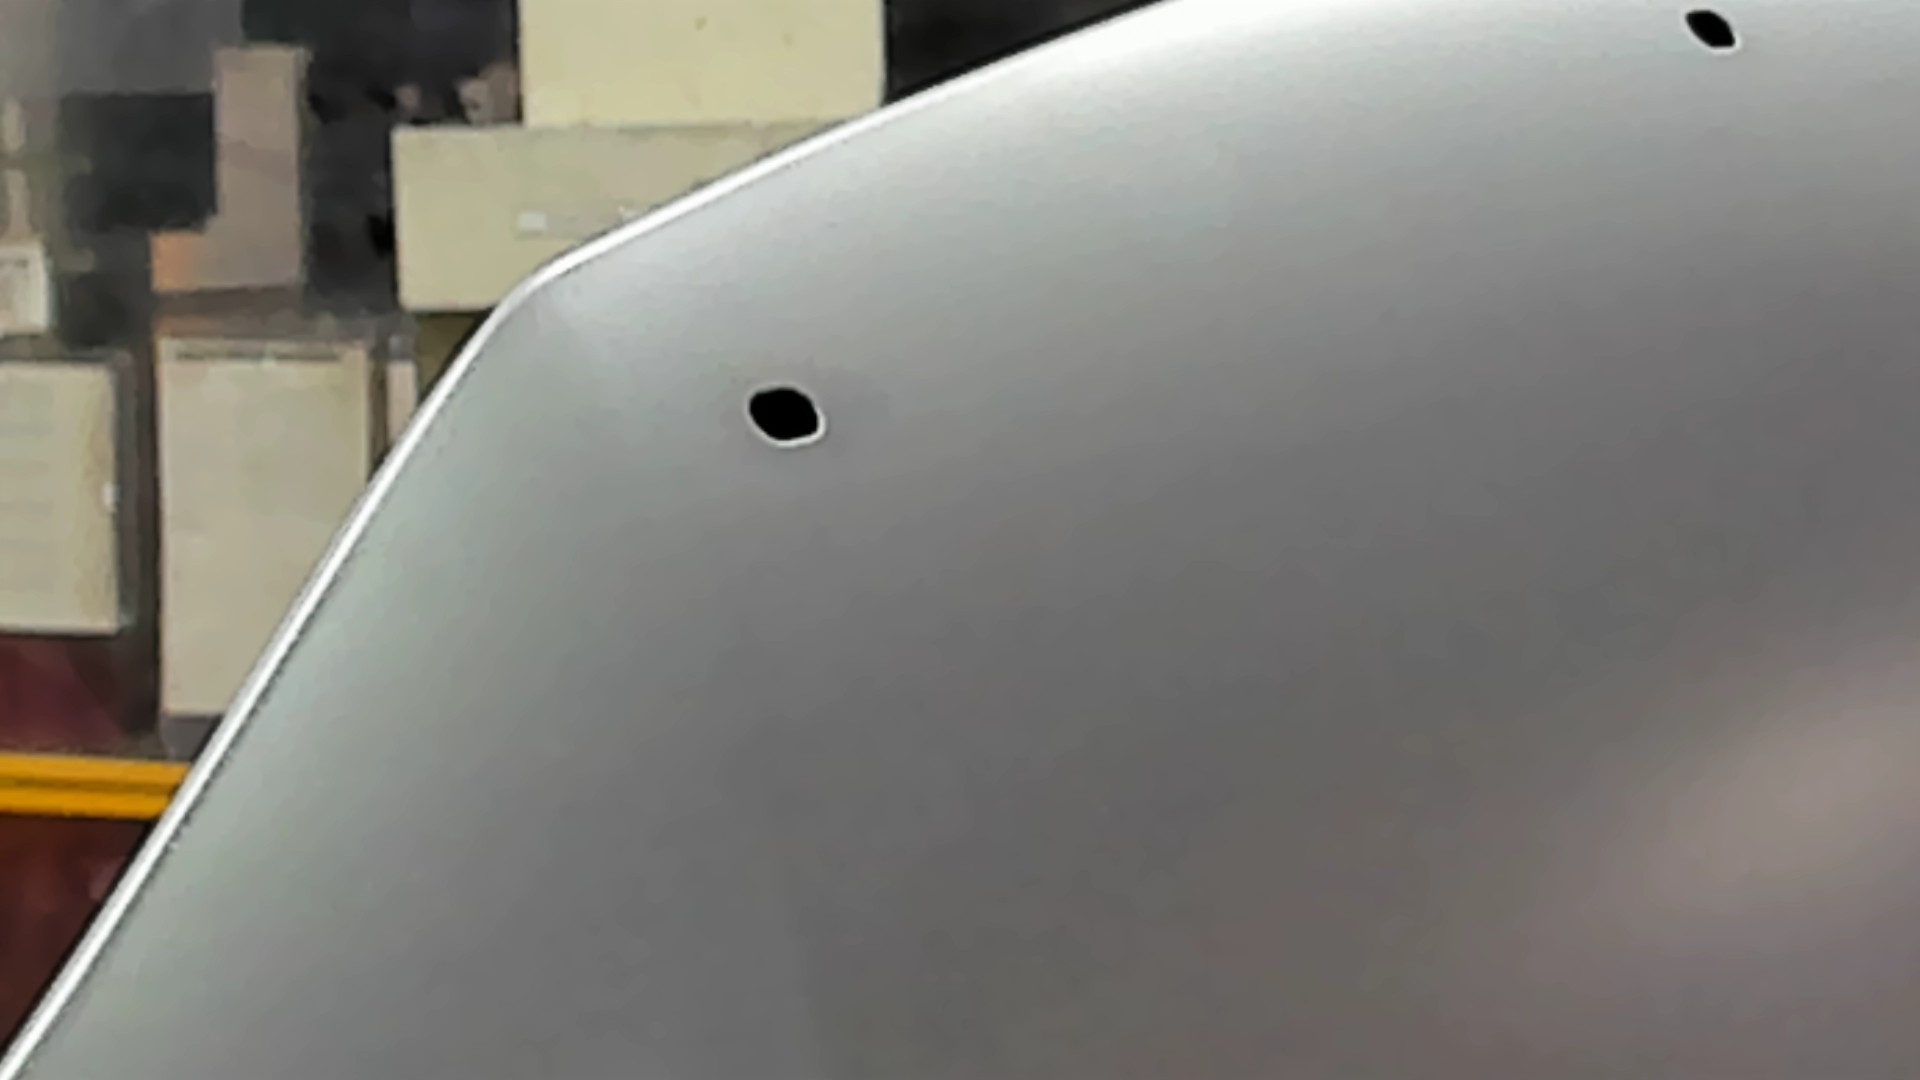amorfo: (736, 378, 837, 451), (1669, 1, 1760, 63)
capo: (948, 125, 1920, 1080)
